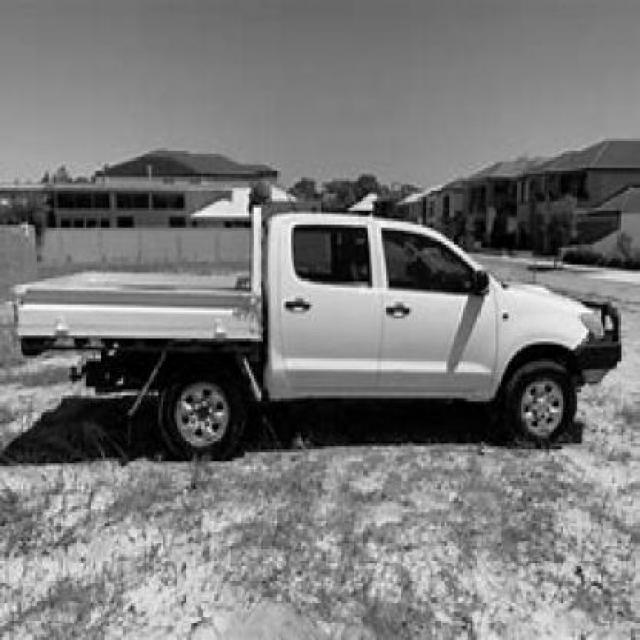Pickup- Utility: (11, 205, 623, 463)
